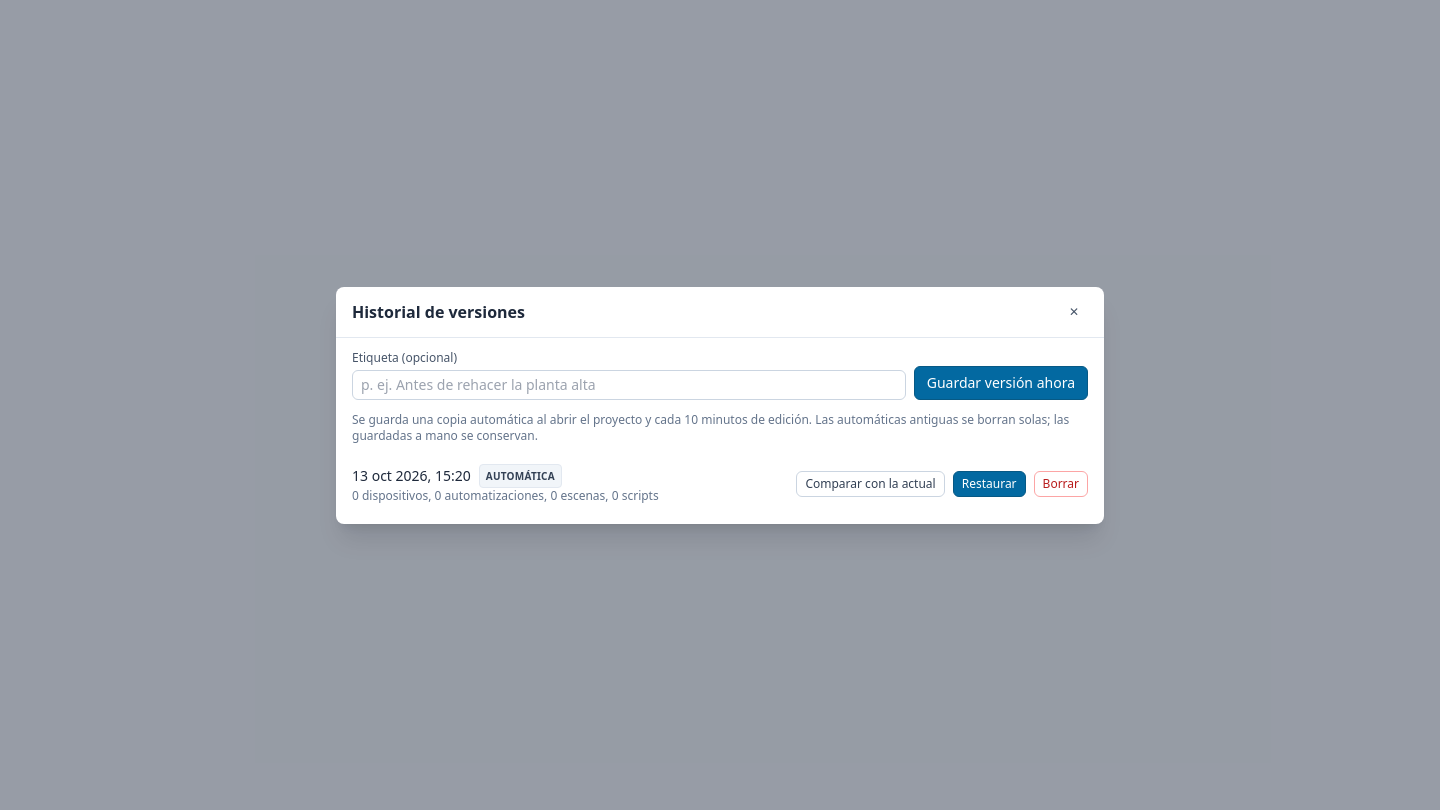
Scenario: Historial de versiones › borra una versión tras confirmar
Expected: the text "Automática" is shown, [479,464,562,488]
Step 1. Click the button "Borrar" → (1061, 484), box [1034,470,1088,496]
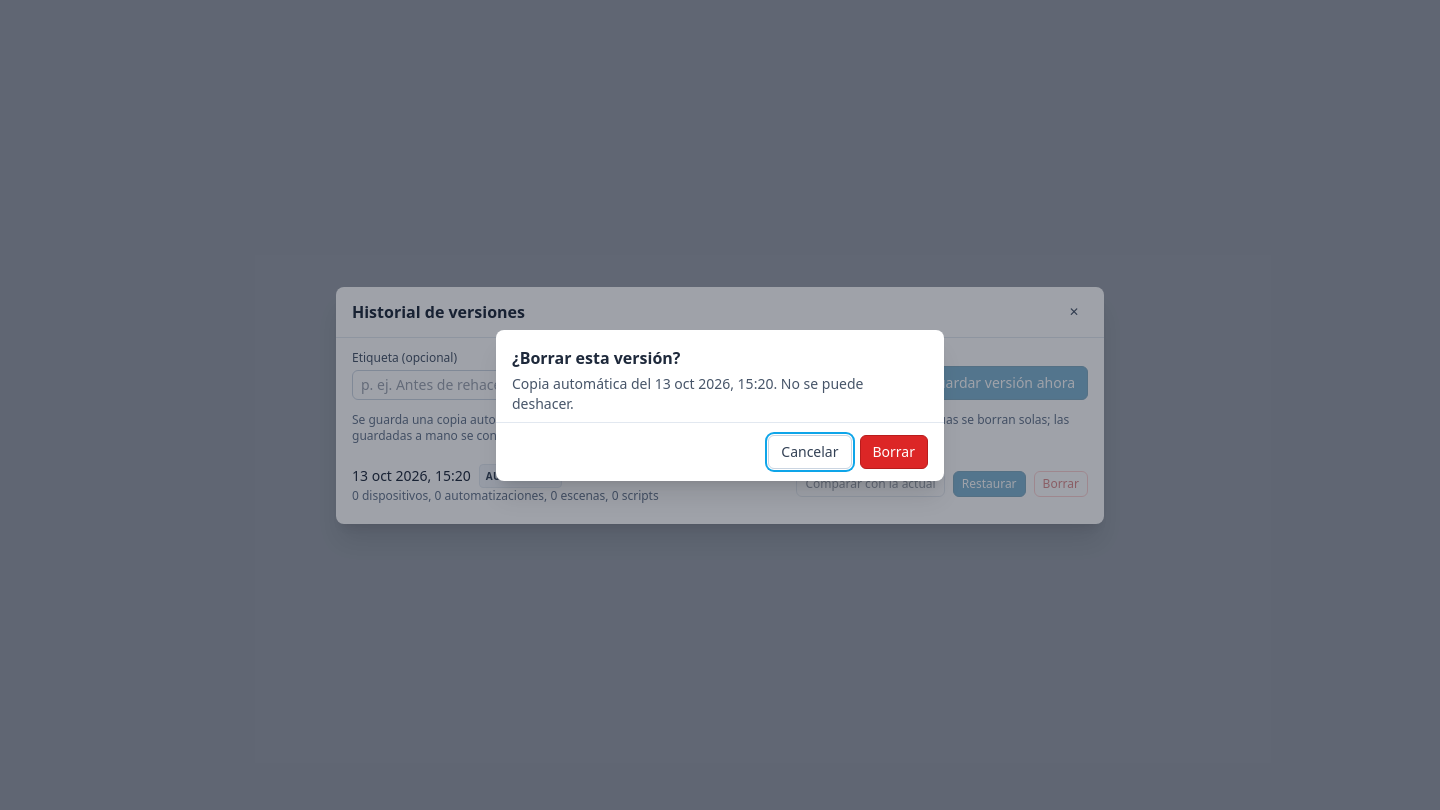
Step 2. Click the button "Borrar" → (894, 452), box [860,434,928,468]
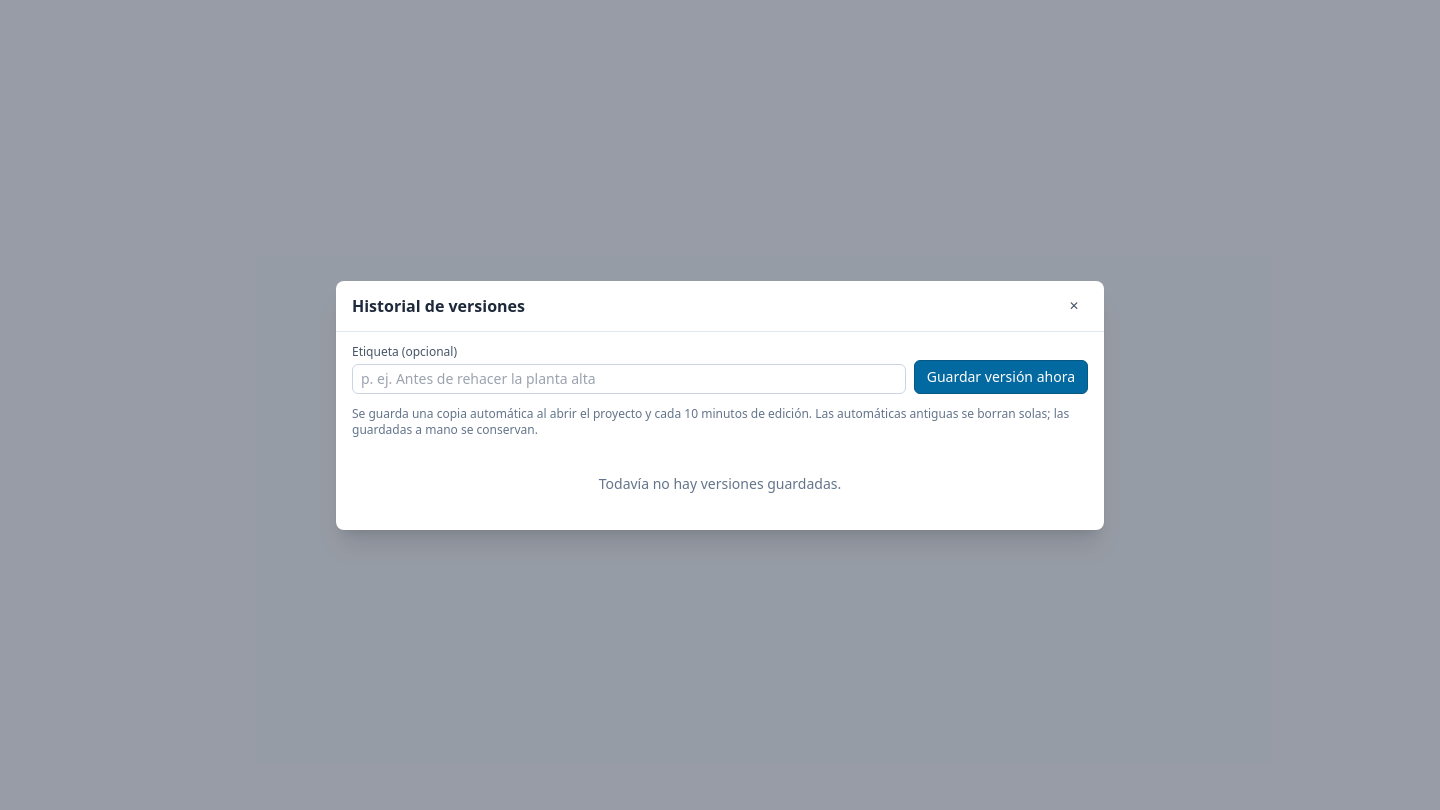
Now the text "Todavía no hay versiones guardadas." is shown, box [599,474,841,492]
